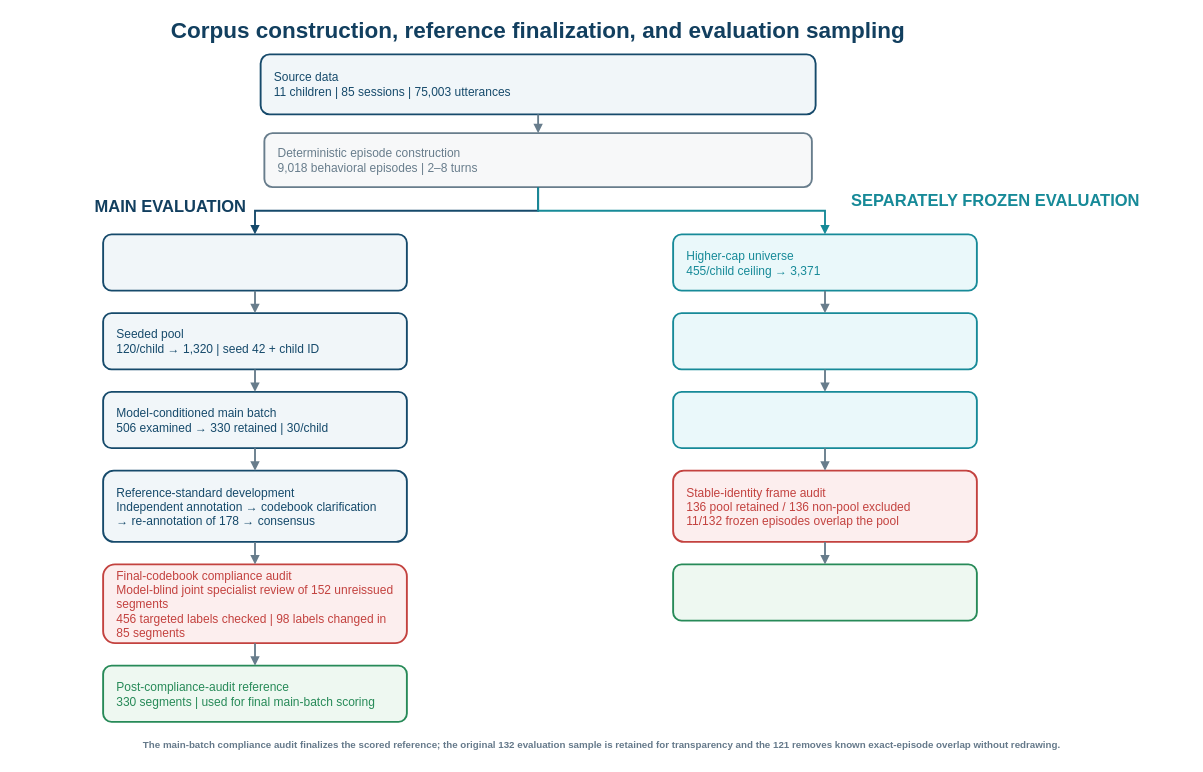
Image size: 1203x772. Some labels were removed from this diagram. The centre of each missing label's shape, as x and y in pixels:
"Balanced annotation universe 273/child ceiling → 2,442" belongs at [254,262].
"Identifier-based pool exclusion 3,371 − 1,320 IDs → 2,051 ID-eligible" belongs at [824,341].
"Original frozen evaluation set 132 retained | 12/child | seed 20260916" belongs at [824,420].
"Post-audit overlap-excluded analysis 121 episodes | all 11 children | no redraw" belongs at [824,592].
